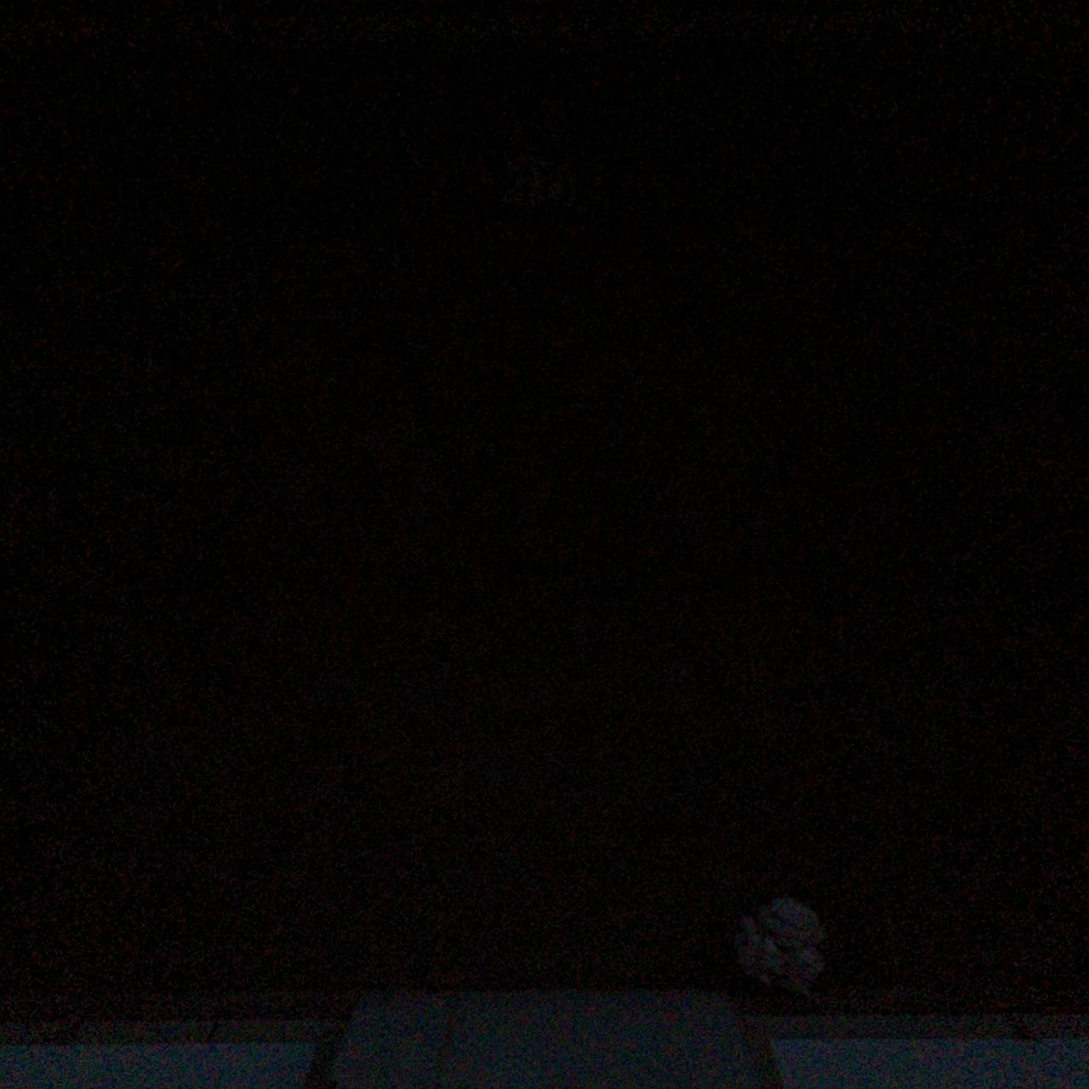chicken: (754, 889, 829, 957), (718, 915, 778, 993), (767, 943, 828, 1008)
